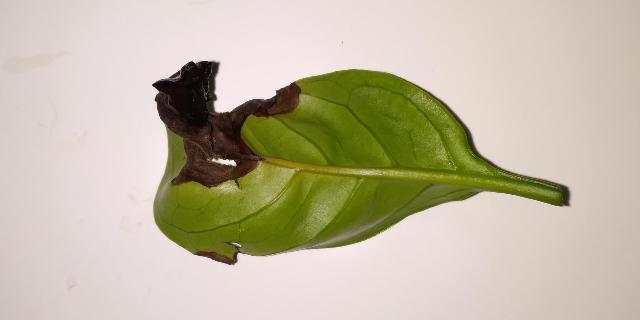rust: (153, 61, 301, 187), (196, 251, 237, 264)
